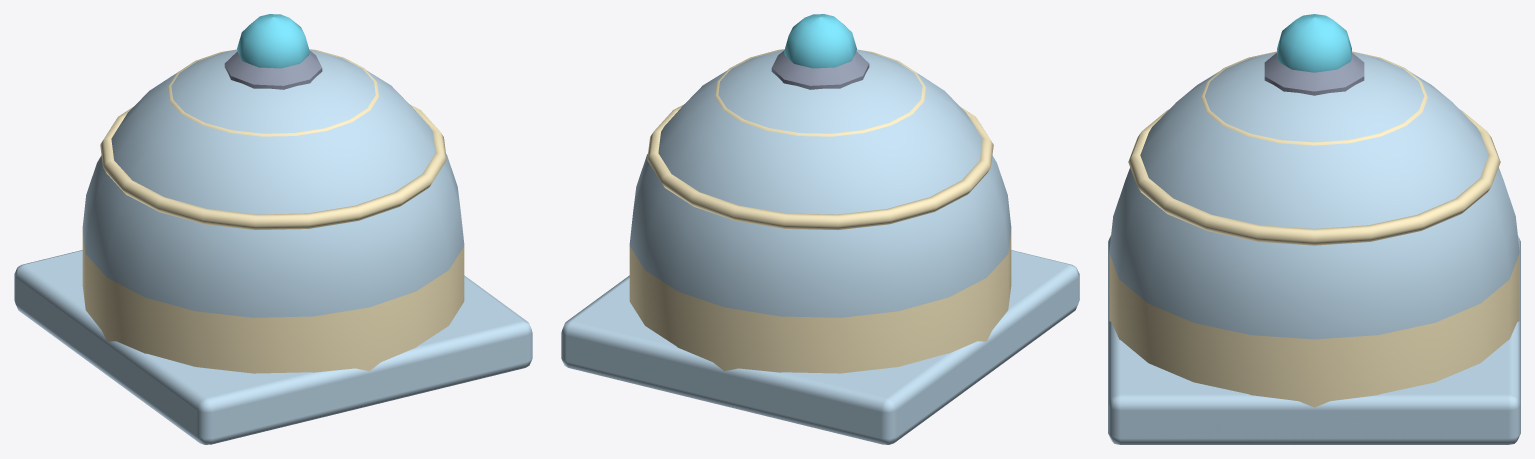
The model's file is R4X_PersonalShield.glb.
The picture shows the model from 3 angles, left to right: view 1: azimuth 30°, elevation 25°; view 2: azimuth 150°, elevation 25°; view 3: azimuth 270°, elevation 25°; orthographic projection. The views are drawn at different scales.
Parts seen in each view (by area): view 1: R4X_PersonalShield_Body; view 2: R4X_PersonalShield_Body; view 3: R4X_PersonalShield_Body.
Boxes of the visible parts, x1,y1,x2,y2 form: R4X_PersonalShield_Body: [14, 14, 532, 444]; R4X_PersonalShield_Body: [561, 14, 1079, 444]; R4X_PersonalShield_Body: [1108, 14, 1520, 444].
Size of the model in its own units: 0.52 by 0.4795 by 0.52.
